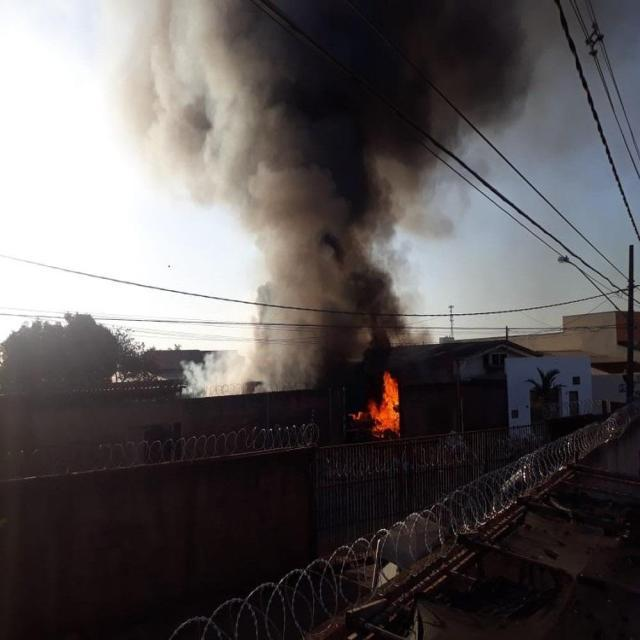Fire: (376, 374, 398, 436)
Smoke: (119, 4, 552, 382)
